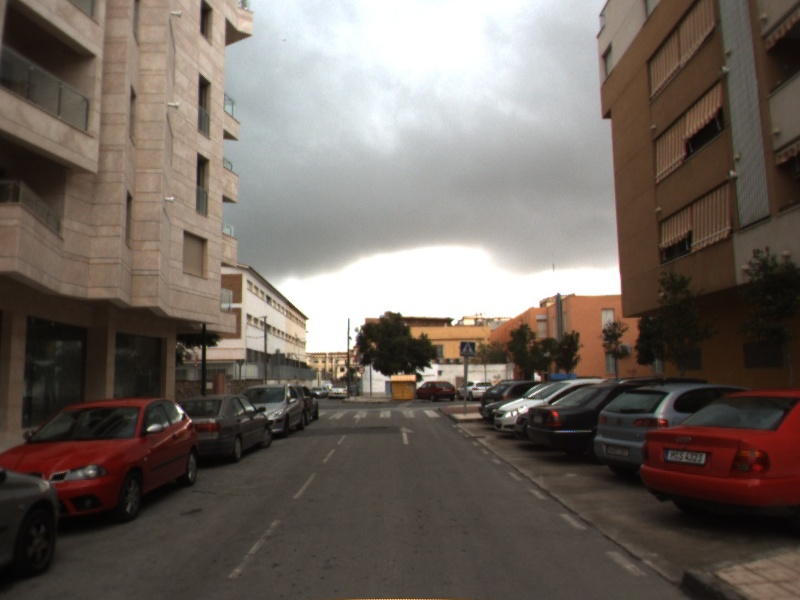STRAIGHT: (396, 425, 417, 446)
